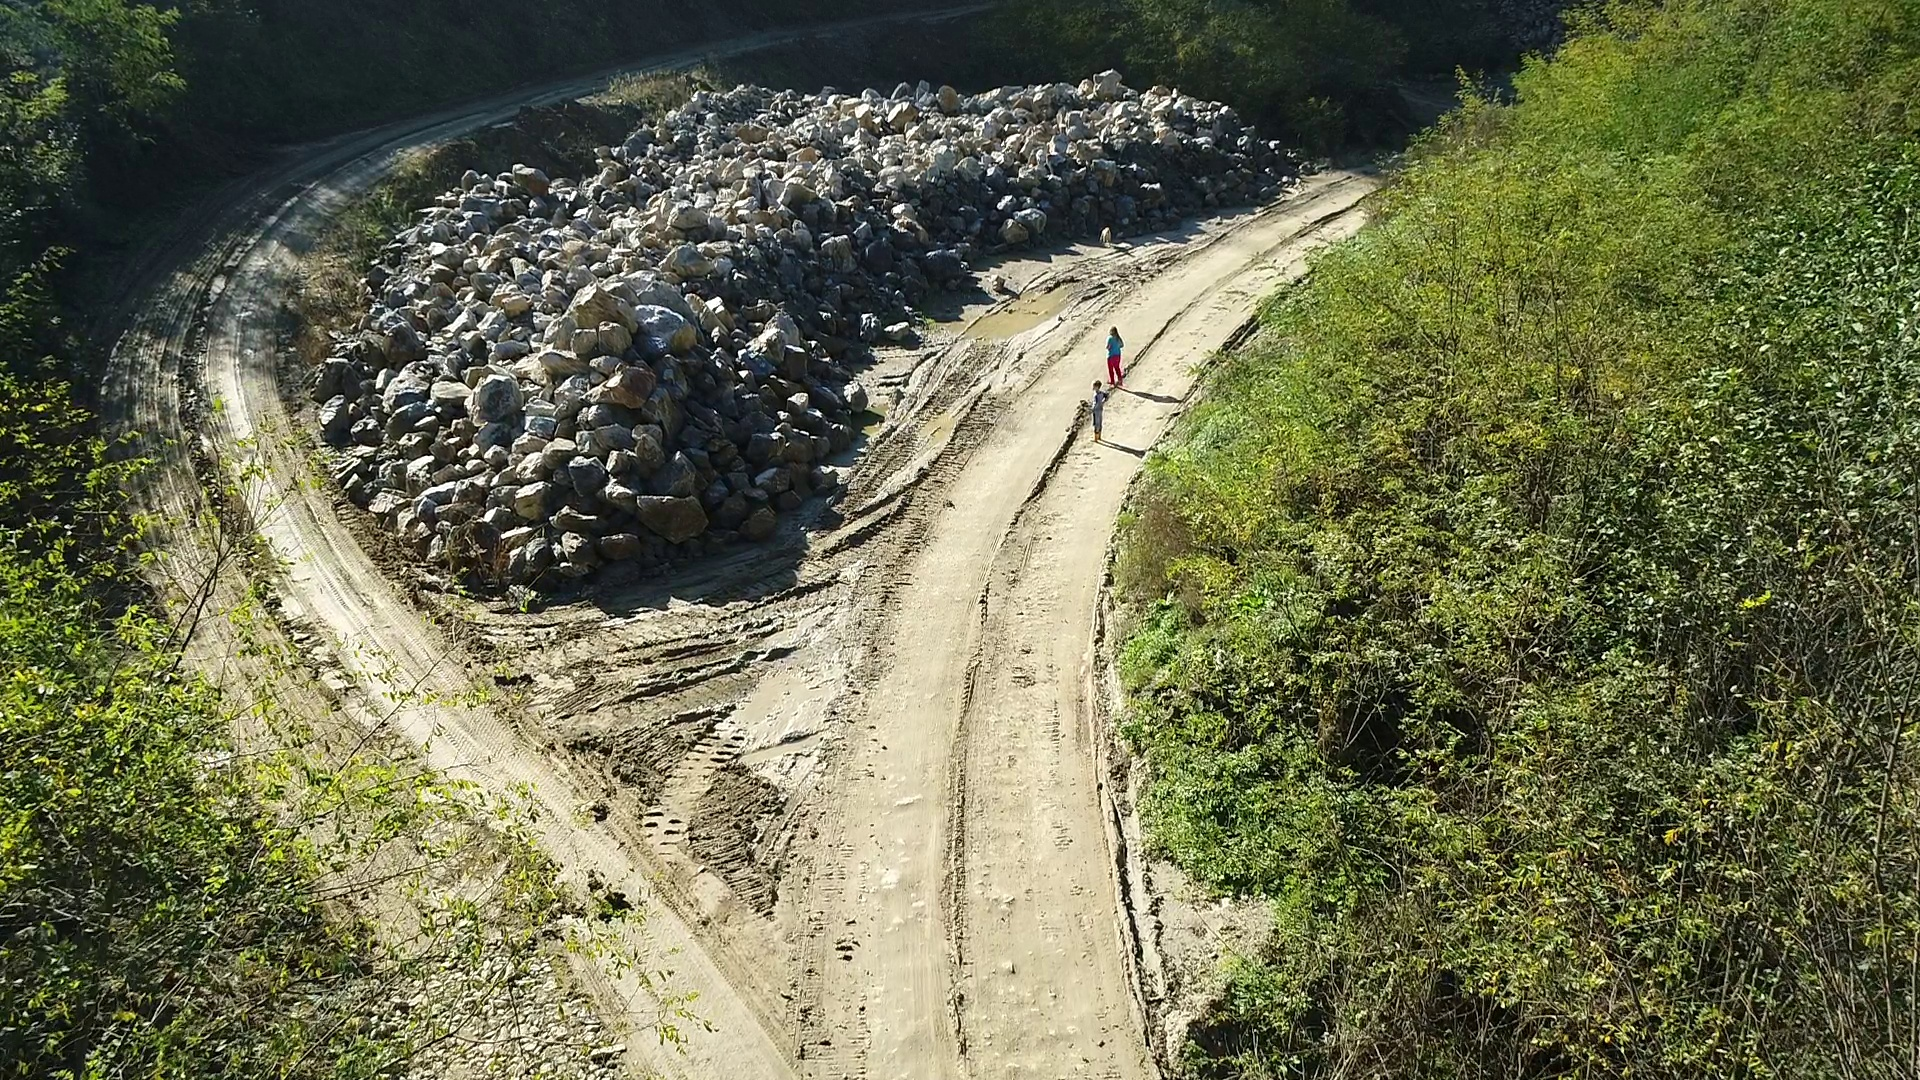person: (1088, 377, 1109, 442), (1105, 324, 1124, 387), (1046, 150, 1068, 177)
